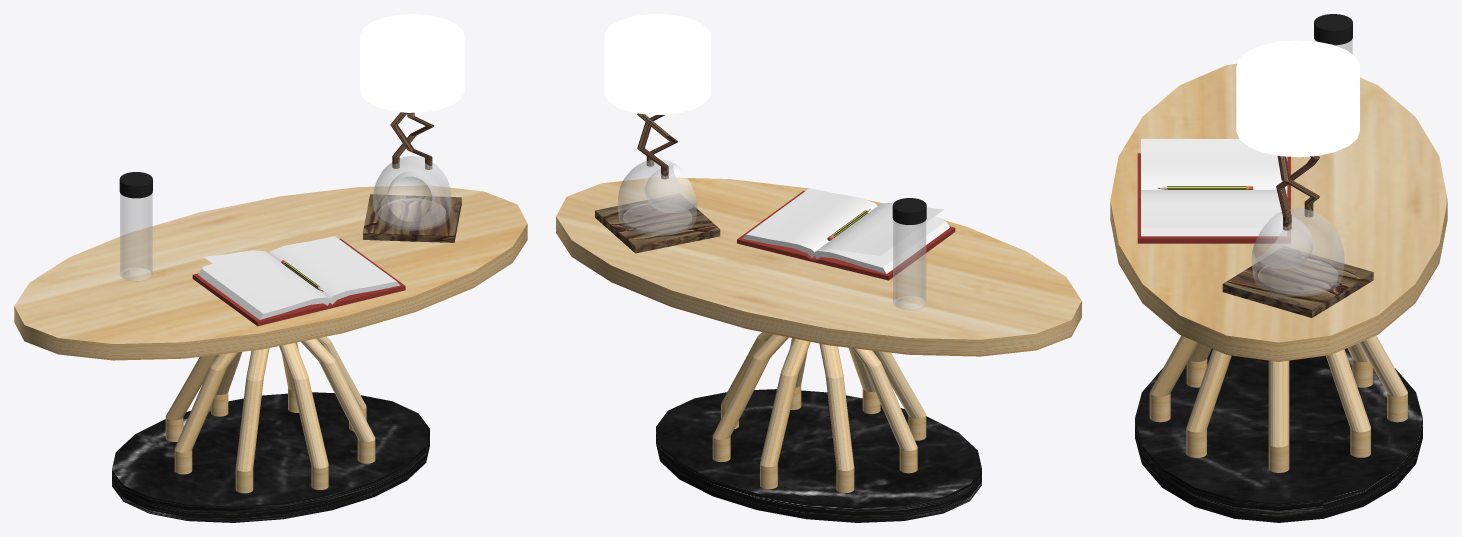
3 views of the same model, side by side, from view 1: azimuth 30°, elevation 25°; view 2: azimuth 150°, elevation 25°; view 3: azimuth 270°, elevation 25° (orthographic). The views are drawn at different scales.
Visible parts, largest first — view 1: pCylinder15, pCylinder6, pCylinder4, polySurface3, pSphere3, pCube1, polySurface5, Water_Bottle:pCylinder2, pCylinder8, pCylinder11, pCylinder14, pCylinder7 (+7 smaller); view 2: pCylinder15, pCylinder6, pCylinder4, polySurface3, pSphere3, pCube1, Water_Bottle:pCylinder2, pCylinder9, polySurface5, pCylinder12, pCylinder13, pCylinder7 (+7 smaller); view 3: pCylinder15, pCylinder6, pCylinder4, pSphere3, polySurface3, polySurface5, pCube1, pCylinder10, pCylinder14, pCylinder13, pCylinder8, pCylinder9 (+5 smaller).
Part boxes in pixels (left/top/right/bottom): pCylinder15: left=14, top=185, right=527, bottom=360; pCylinder6: left=112, top=392, right=429, bottom=522; pCylinder4: left=360, top=14, right=464, bottom=112; polySurface3: left=198, top=236, right=400, bottom=319; pSphere3: left=373, top=156, right=451, bottom=230; pCube1: left=363, top=194, right=461, bottom=242; polySurface5: left=204, top=250, right=326, bottom=302; Water_Bottle:pCylinder2: left=120, top=193, right=152, bottom=281; pCylinder8: left=279, top=343, right=328, bottom=489; pCylinder11: left=235, top=348, right=269, bottom=493; pCylinder14: left=301, top=338, right=375, bottom=463; pCylinder7: left=174, top=352, right=238, bottom=474; pCylinder15: left=556, top=178, right=1081, bottom=356; pCylinder6: left=656, top=389, right=981, bottom=522; pCylinder4: left=604, top=14, right=710, bottom=114; polySurface3: left=742, top=188, right=949, bottom=273; pSphere3: left=617, top=159, right=697, bottom=235; pCube1: left=595, top=194, right=720, bottom=253; Water_Bottle:pCylinder2: left=893, top=220, right=926, bottom=310; pCylinder9: left=760, top=338, right=810, bottom=489; polySurface5: left=818, top=202, right=943, bottom=255; pCylinder12: left=819, top=343, right=854, bottom=492; pCylinder13: left=712, top=334, right=788, bottom=462; pCylinder7: left=852, top=348, right=917, bottom=473; pCylinder15: left=1110, top=63, right=1447, bottom=361; pCylinder6: left=1135, top=348, right=1422, bottom=522; pCylinder4: left=1236, top=40, right=1359, bottom=157; pSphere3: left=1251, top=208, right=1344, bottom=296; polySurface3: left=1141, top=190, right=1287, bottom=236; polySurface5: left=1141, top=139, right=1287, bottom=189; pCube1: left=1222, top=247, right=1373, bottom=317; pCylinder10: left=1268, top=360, right=1289, bottom=472; pCylinder14: left=1186, top=349, right=1231, bottom=457; pCylinder13: left=1326, top=349, right=1370, bottom=457; pCylinder8: left=1149, top=335, right=1198, bottom=422; pCylinder9: left=1359, top=335, right=1407, bottom=422.
Size of the model in its own units: 28.4 by 21.3 by 14.23.
15 materials, 3 textured.
